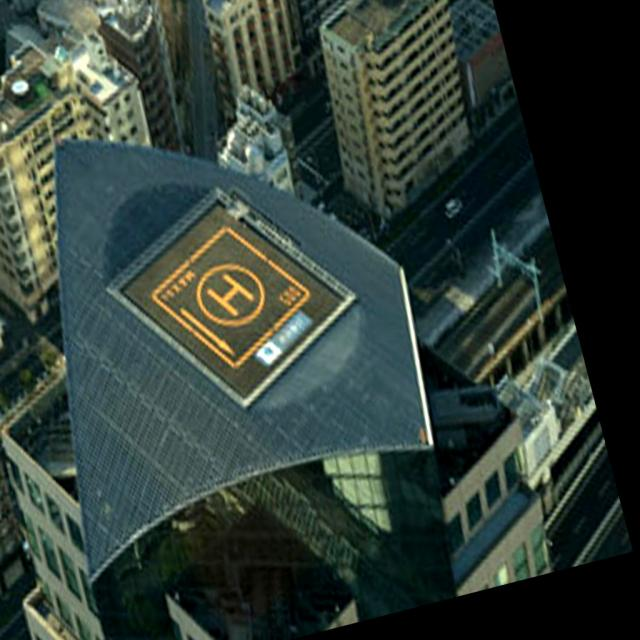helipad: (194, 262, 268, 327)
